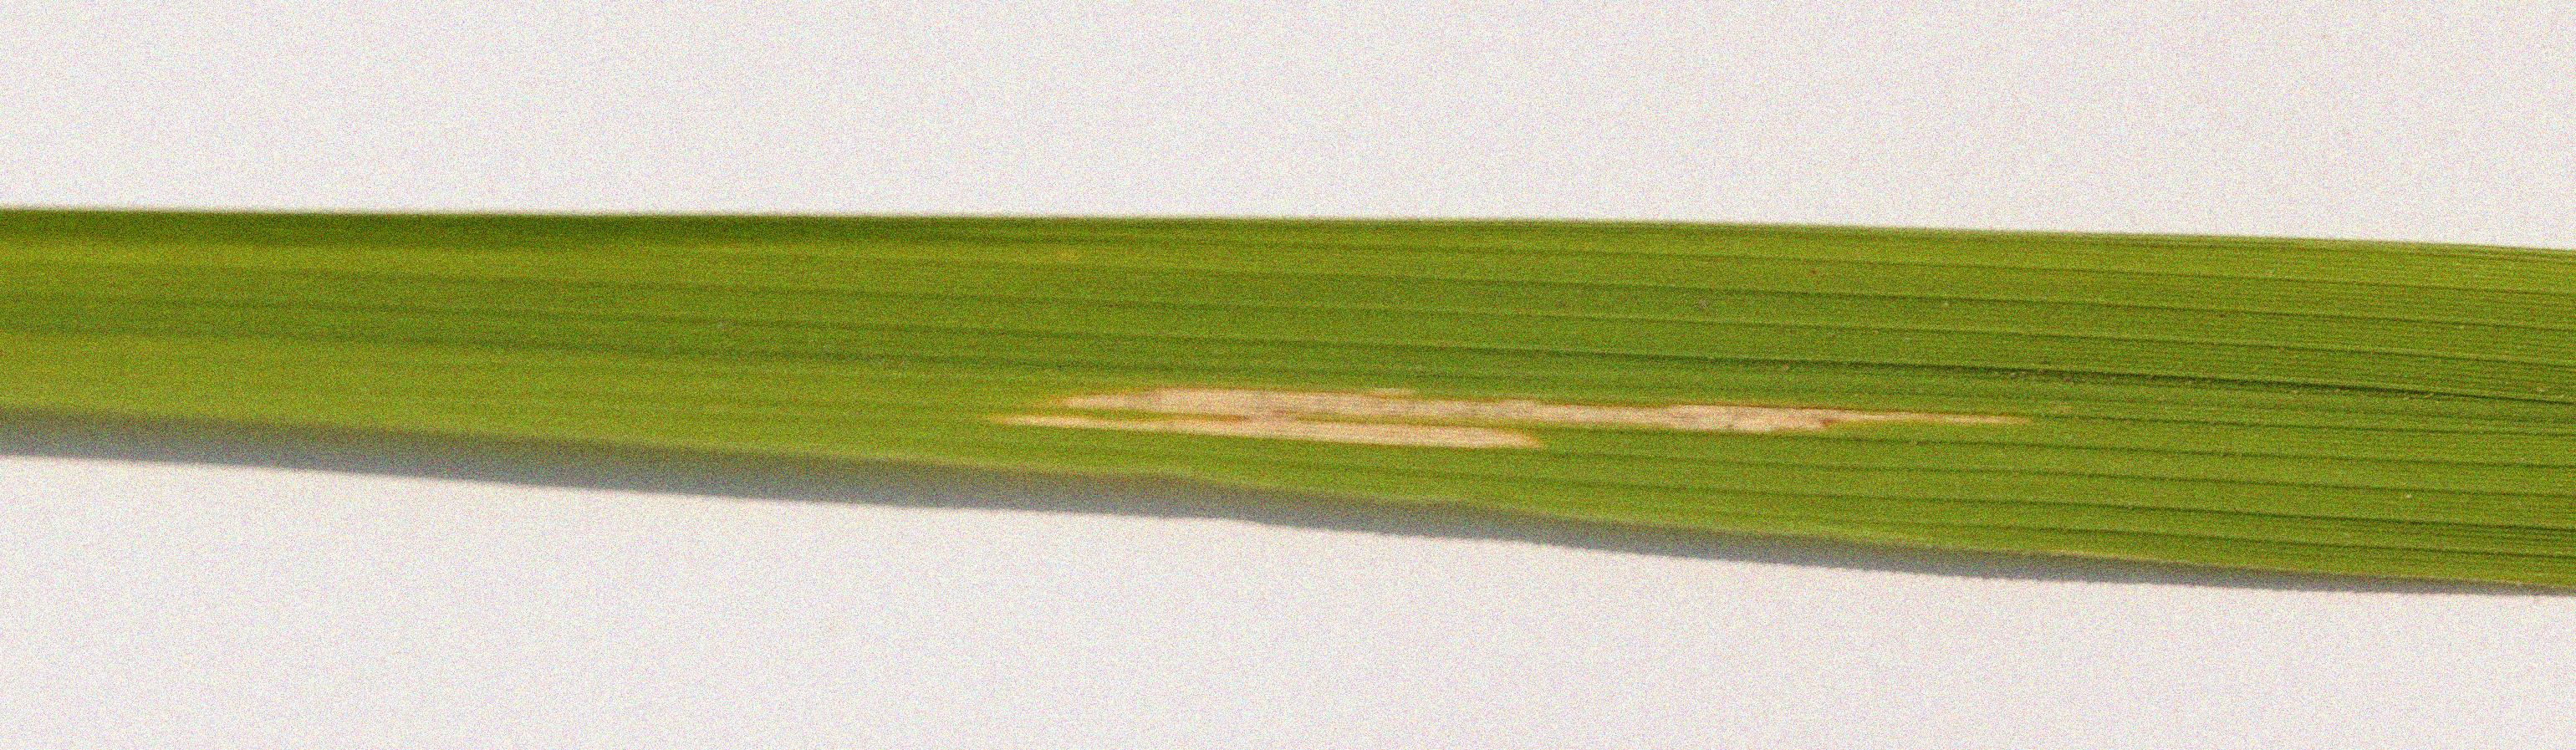bacterial_leaf_blight: (958, 376, 2068, 460)
